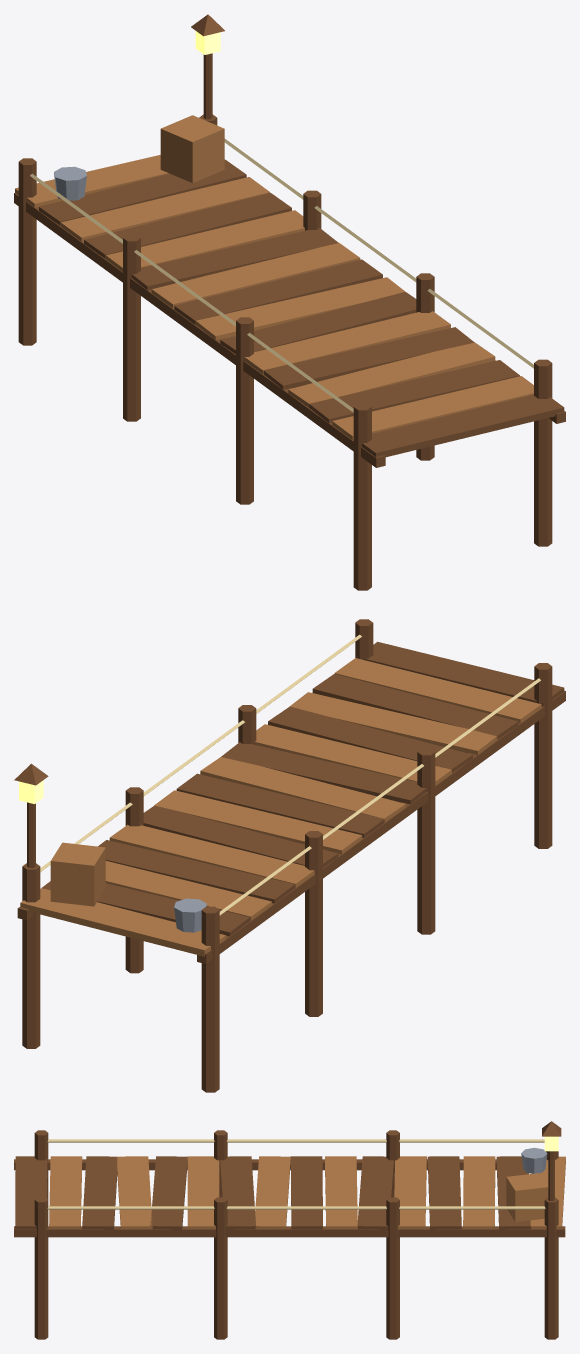
The model's file is fishing_pier.glb.
The picture shows the model from 3 angles, top to bottom: view 1: azimuth 30°, elevation 25°; view 2: azimuth 150°, elevation 25°; view 3: azimuth 270°, elevation 25°; orthographic projection. The views are drawn at different scales.
Visible parts, largest first — view 1: fishing_pier; view 2: fishing_pier; view 3: fishing_pier.
Boxes of the visible parts, <box> form: fishing_pier: <box>14,14,565,590</box>; fishing_pier: <box>14,619,565,1092</box>; fishing_pier: <box>14,1121,565,1339</box>.
Size of the model in its own units: 2.53 by 3.46 by 8.01.
